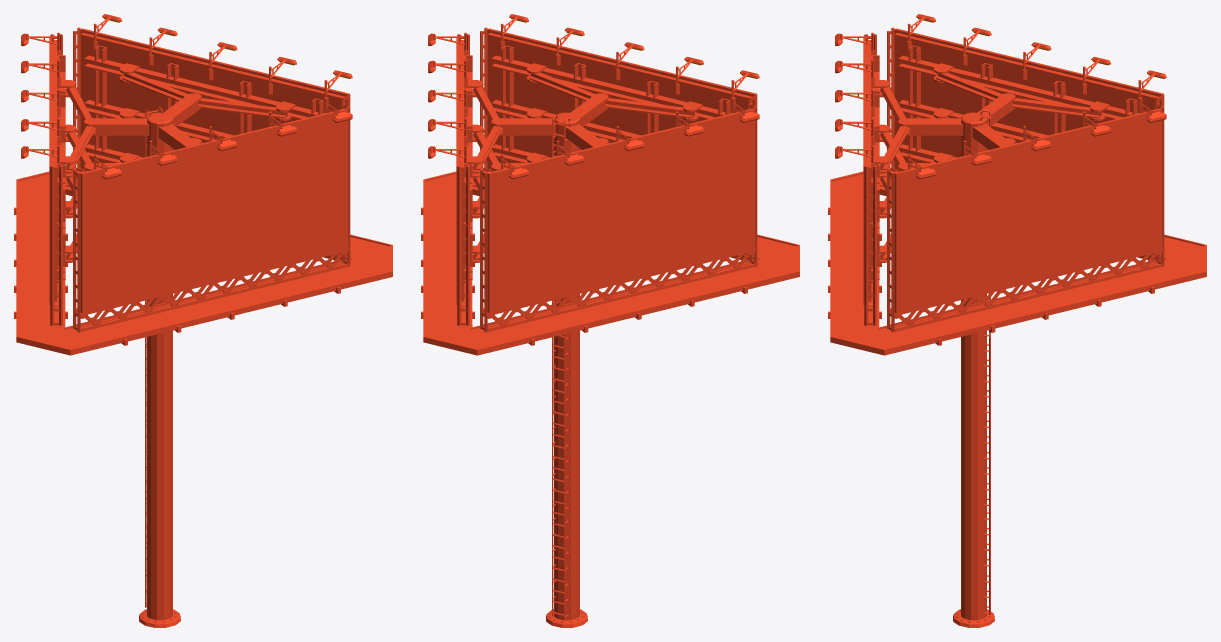
Rendered from SM_Billboard_C_City.fbx.
3 views of the same model, side by side, from view 1: azimuth 30°, elevation 25°; view 2: azimuth 150°, elevation 25°; view 3: azimuth 270°, elevation 25° (orthographic).
Visible parts, largest first — view 1: SM_Billboard_C_City; view 2: SM_Billboard_C_City; view 3: SM_Billboard_C_City.
Boxes of the visible parts, bbox=[...] form: SM_Billboard_C_City: bbox=[14, 14, 392, 627]; SM_Billboard_C_City: bbox=[421, 14, 799, 627]; SM_Billboard_C_City: bbox=[828, 14, 1206, 627].
Size of the model in its own units: 14.16 by 19.05 by 12.33.
